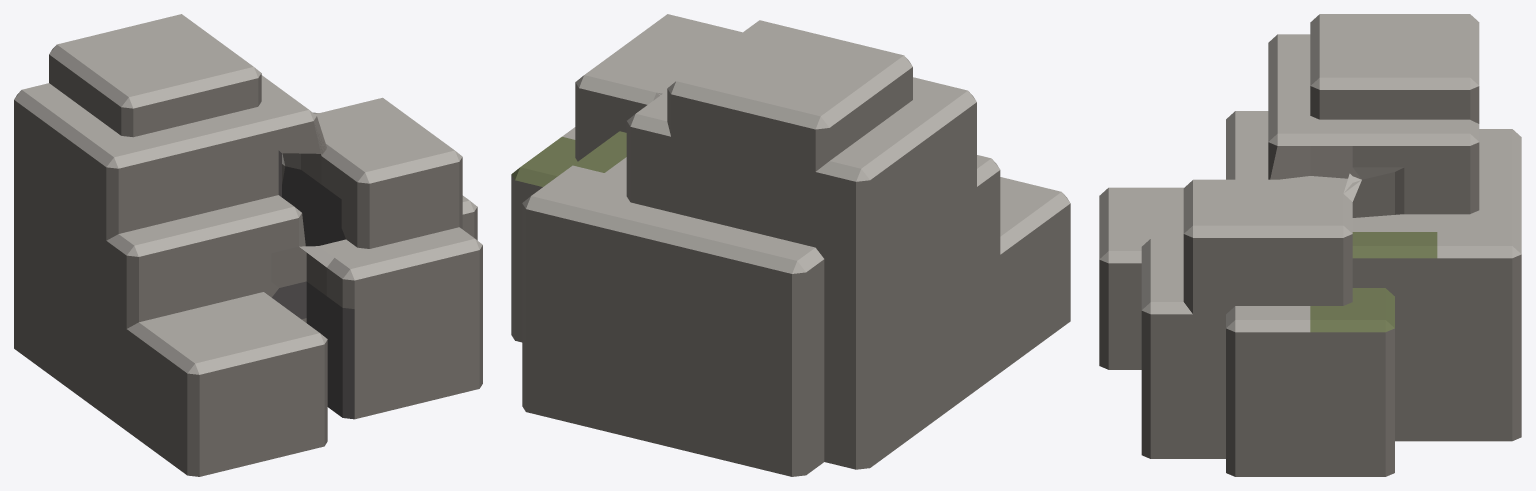
3 renders of one model, left to right at view 1: azimuth 30°, elevation 25°; view 2: azimuth 150°, elevation 25°; view 3: azimuth 270°, elevation 25°, orthographic. The views are drawn at different scales.
Visible parts, largest first — view 1: destructible_rock_stage_2_var_3_S, destructible_rock_stage_2_var_3_L, destructible_rock_stage_2_var_3_D; view 2: destructible_rock_stage_2_var_3_S, destructible_rock_stage_2_var_3_L, destructible_rock_stage_2_var_3_M; view 3: destructible_rock_stage_2_var_3_S, destructible_rock_stage_2_var_3_L, destructible_rock_stage_2_var_3_M.
Boxes of the visible parts, bbox=[...] form: destructible_rock_stage_2_var_3_S: bbox=[14, 54, 482, 476]; destructible_rock_stage_2_var_3_L: bbox=[14, 14, 482, 374]; destructible_rock_stage_2_var_3_D: bbox=[272, 150, 354, 419]; destructible_rock_stage_2_var_3_S: bbox=[511, 67, 1070, 476]; destructible_rock_stage_2_var_3_L: bbox=[522, 14, 1070, 273]; destructible_rock_stage_2_var_3_M: bbox=[511, 131, 626, 186]; destructible_rock_stage_2_var_3_S: bbox=[1099, 86, 1521, 476]; destructible_rock_stage_2_var_3_L: bbox=[1099, 14, 1521, 332]; destructible_rock_stage_2_var_3_M: bbox=[1310, 232, 1437, 332].
Bounding box in the file's own units: 1.5 × 1.2 × 1.5.
